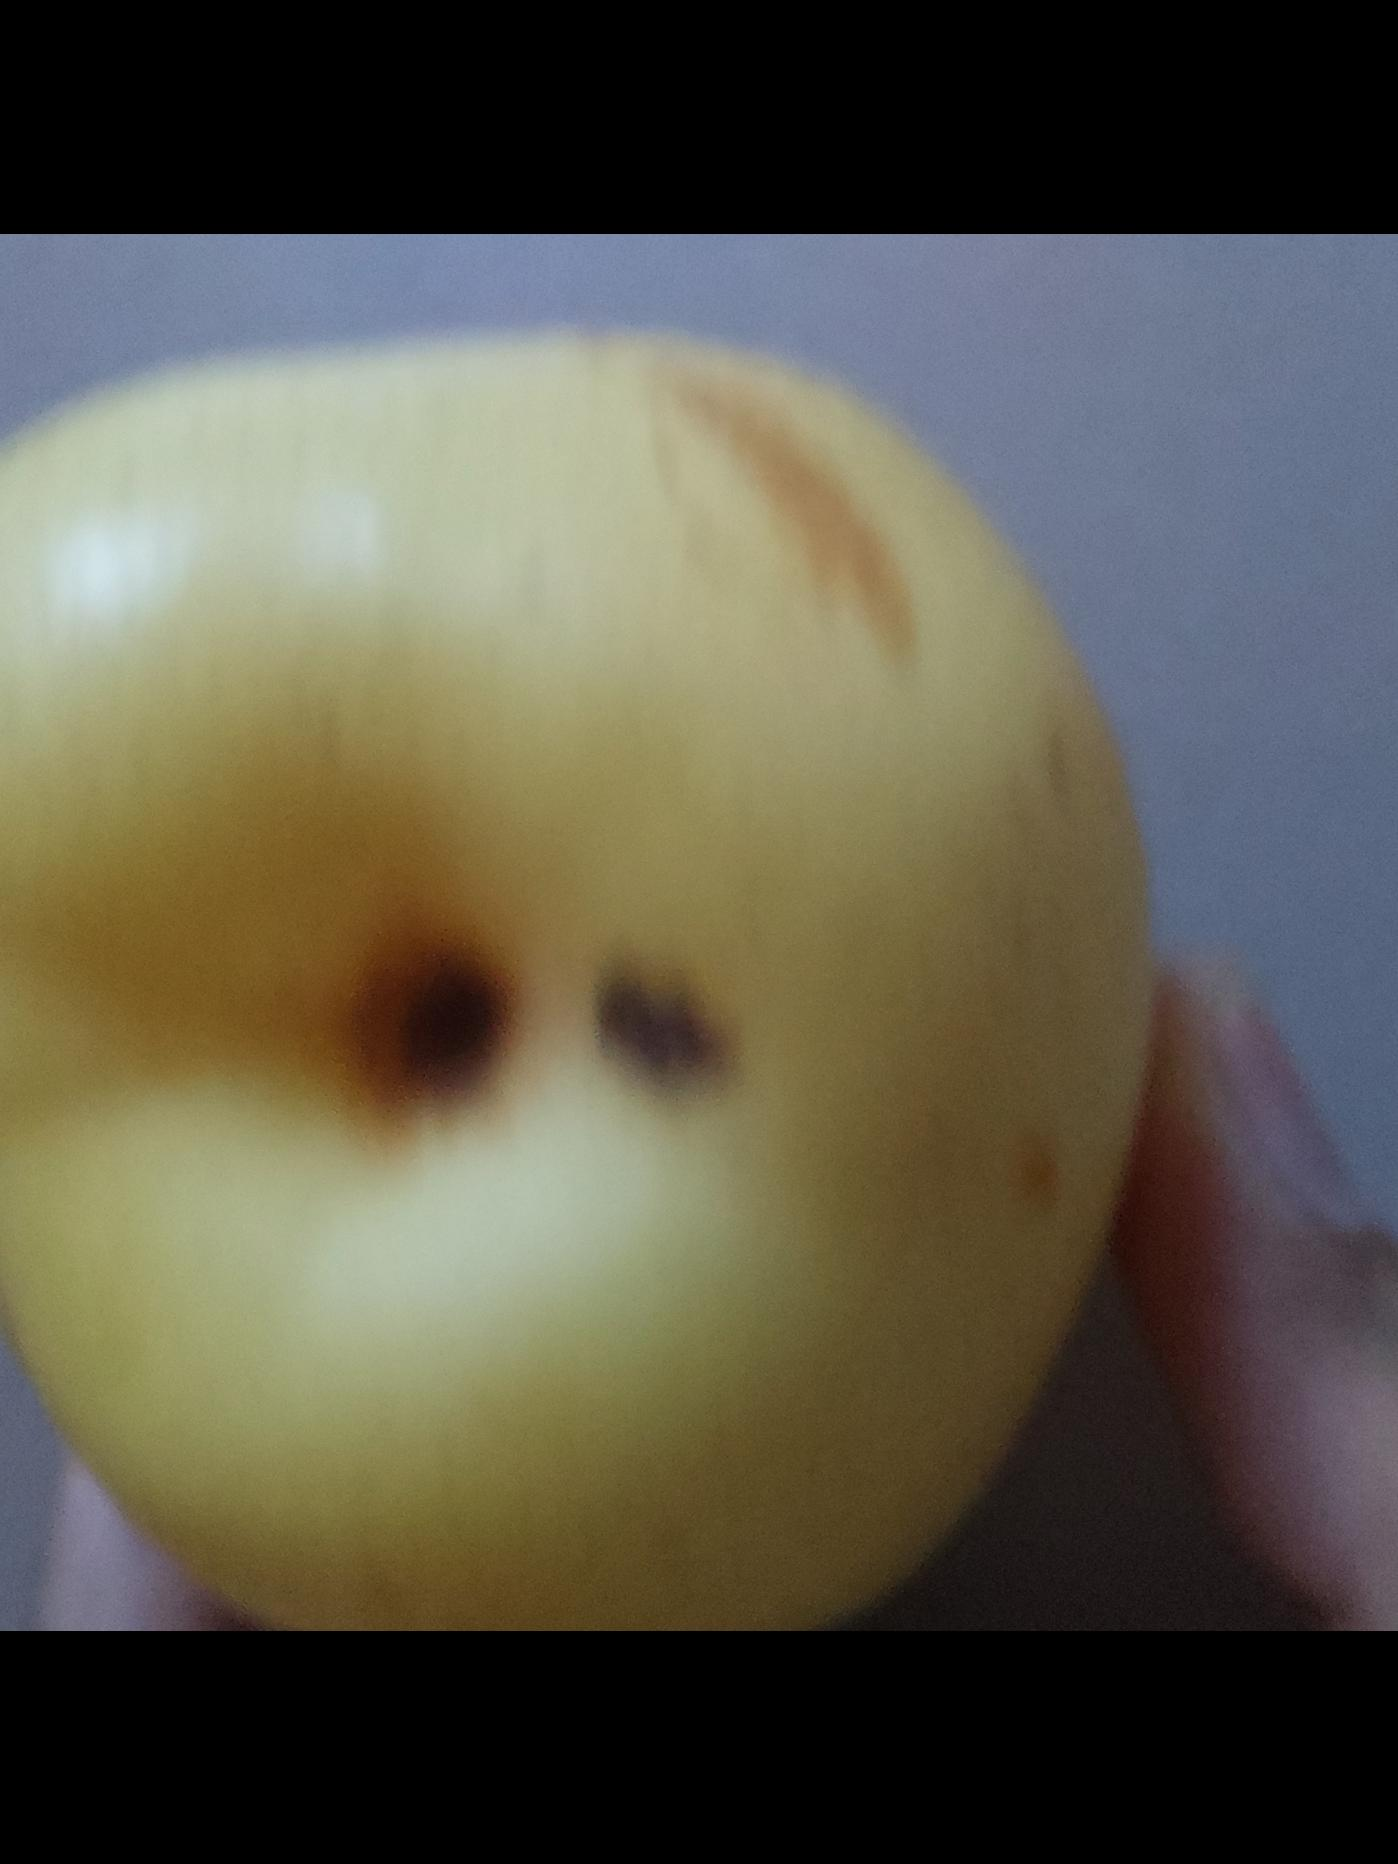Good Pear: (0, 301, 1169, 1631)
